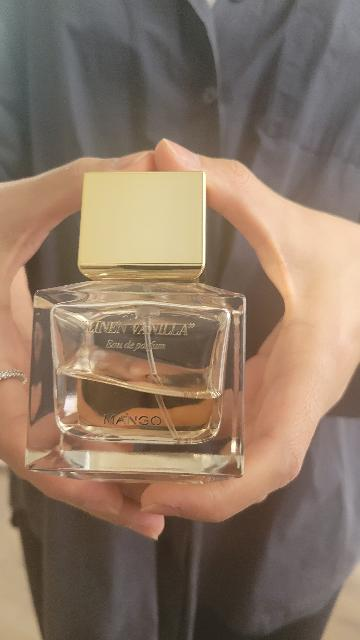Cam: (23, 270, 259, 499)
Metal: (71, 158, 221, 283)
